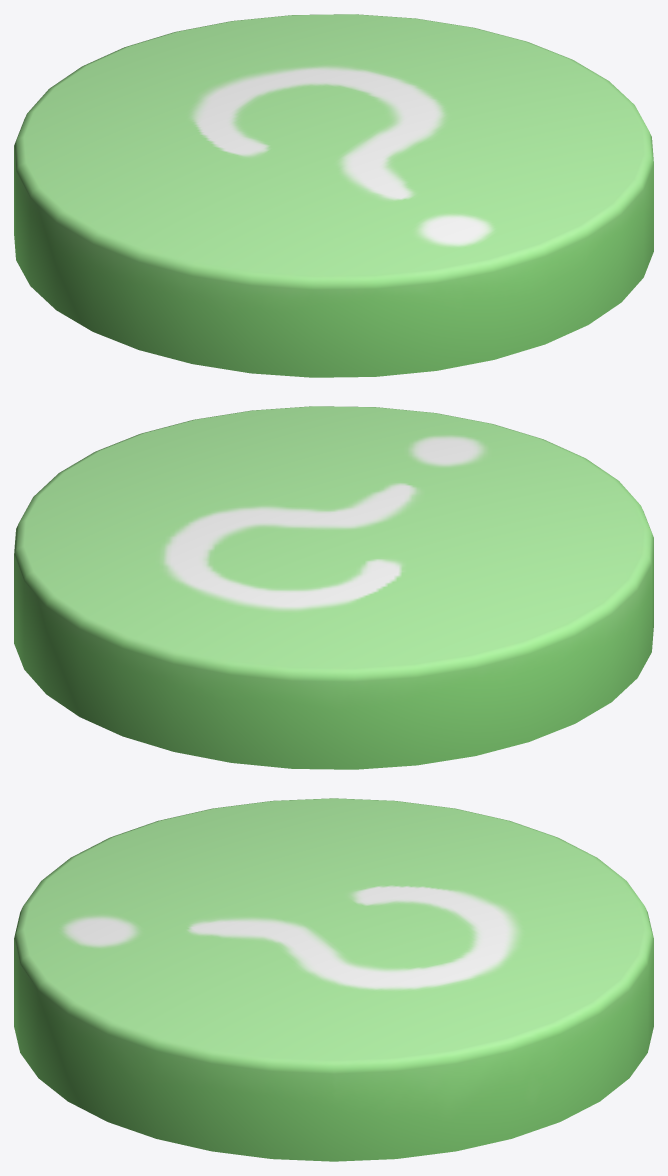
File: select_lesson.glb
3 views of the same model, one above another, from view 1: azimuth 30°, elevation 25°; view 2: azimuth 150°, elevation 25°; view 3: azimuth 270°, elevation 25° (orthographic).
Parts seen in each view (by area): view 1: dance_lesson; view 2: dance_lesson; view 3: dance_lesson.
Part boxes in pixels (bbox=[...]): dance_lesson: bbox=[14, 14, 653, 377]; dance_lesson: bbox=[14, 406, 653, 769]; dance_lesson: bbox=[14, 798, 653, 1161].
Size of the model in its own units: 0.3536 by 0.059 by 0.3536.
Materials: 1 (1 with a texture image).
